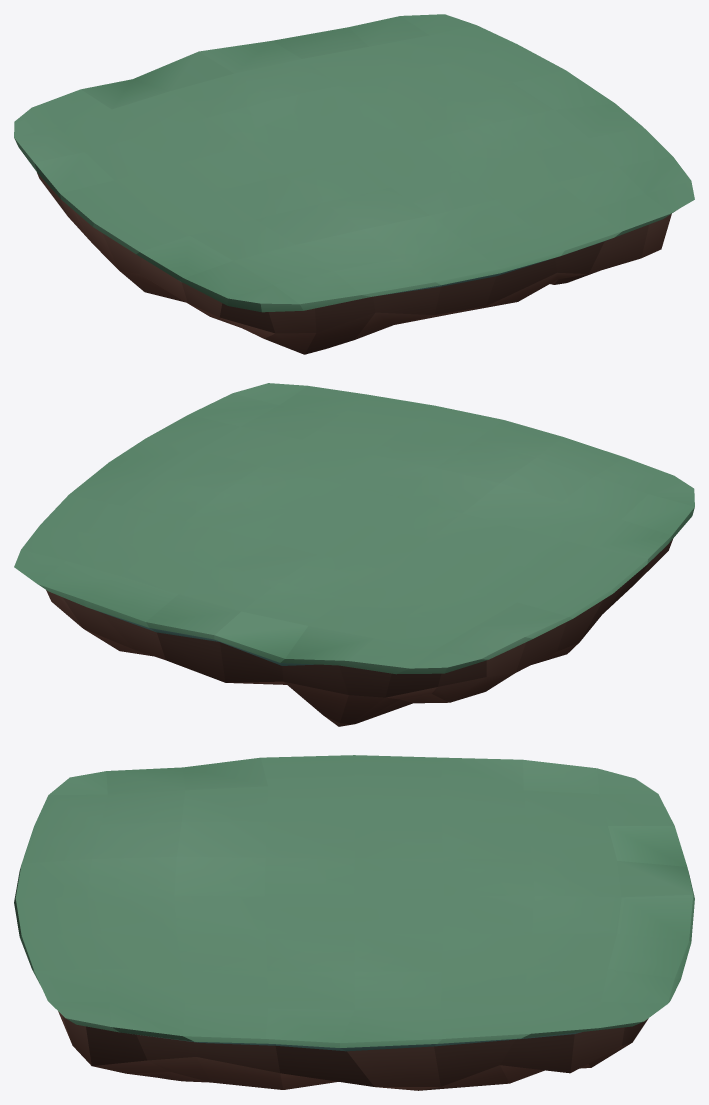
The model's file is islandL.fbx.
The picture shows the model from 3 angles, top to bottom: view 1: azimuth 30°, elevation 25°; view 2: azimuth 150°, elevation 25°; view 3: azimuth 270°, elevation 25°; orthographic projection. The views are drawn at different scales.
Parts seen in each view (by area): view 1: IslandL; view 2: IslandL; view 3: IslandL.
Boxes of the visible parts, bbox=[...] form: IslandL: bbox=[14, 14, 694, 354]; IslandL: bbox=[14, 383, 694, 726]; IslandL: bbox=[14, 755, 694, 1090].
Bounding box in the file's own units: 20.04 × 4.51 × 20.04.
